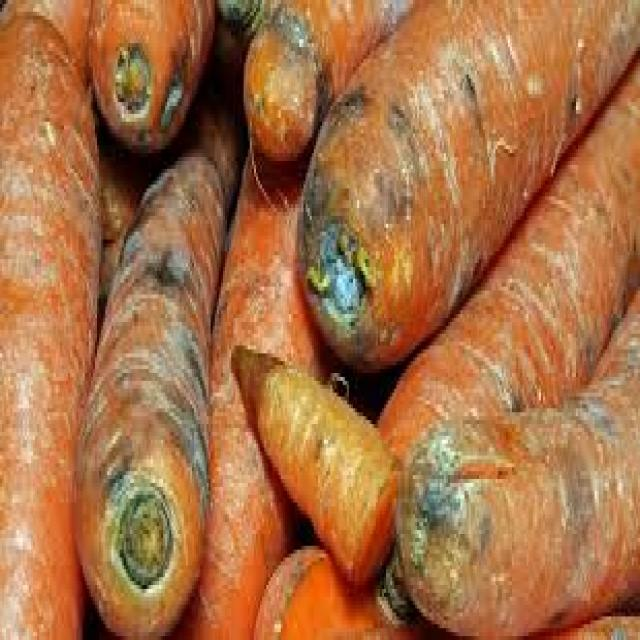Stale_Carrot: (233, 0, 500, 613), (99, 0, 245, 573)
